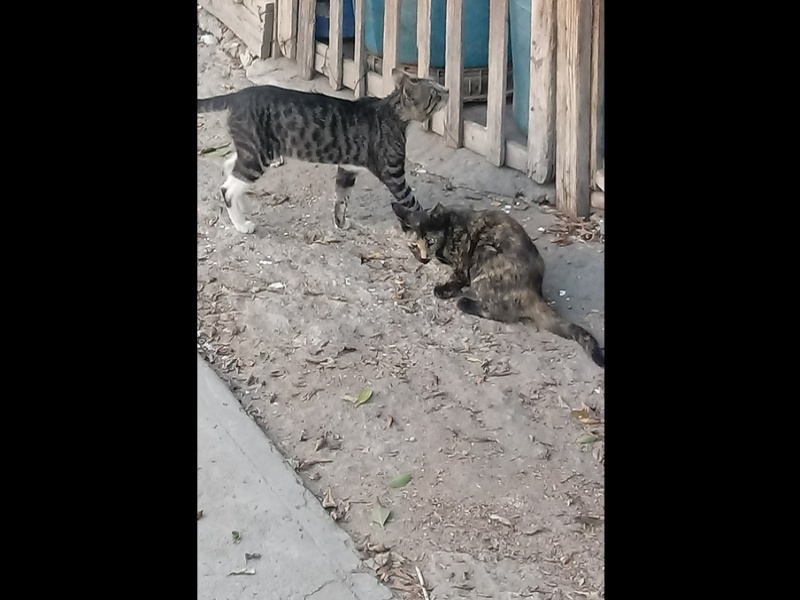cat: (200, 66, 452, 244), (391, 205, 601, 362)
